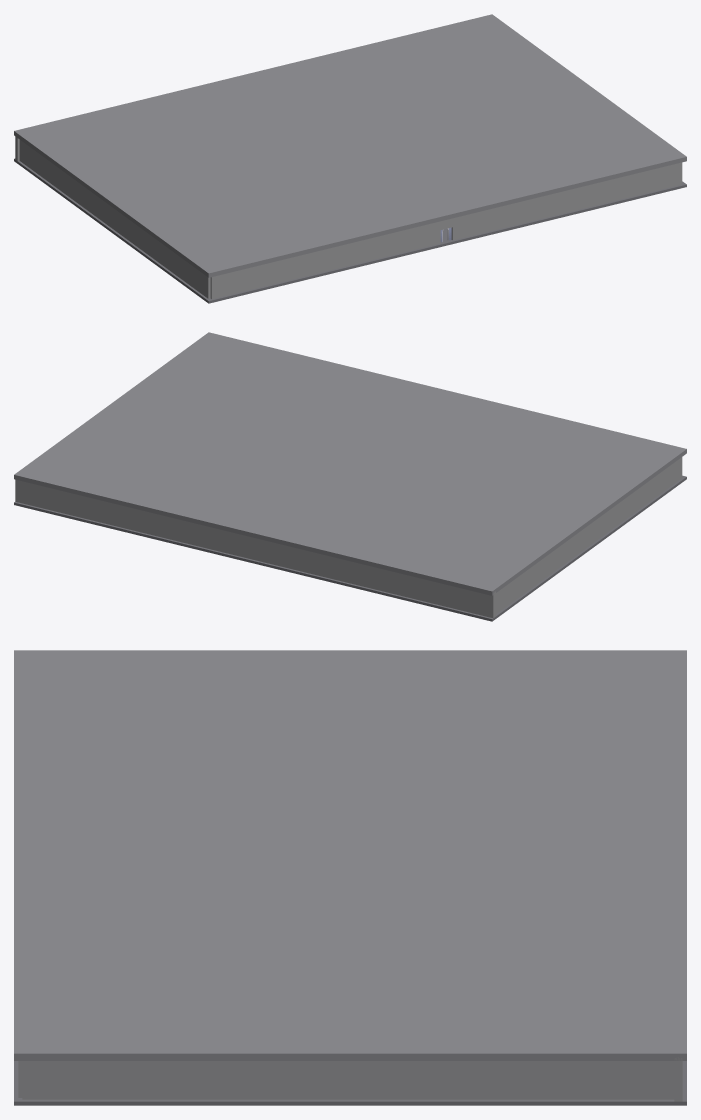
Rendered from world.glb.
3 renders of one model, top to bottom at view 1: azimuth 30°, elevation 25°; view 2: azimuth 150°, elevation 25°; view 3: azimuth 270°, elevation 25°, orthographic. The views are drawn at different scales.
Visible parts, largest first — view 1: Ceiling, Wall_S_L, Wall_S_R, Wall_W, Terrain; view 2: Ceiling, Wall_N, Wall_W, Terrain; view 3: Ceiling, Wall_E, Terrain.
Part boxes in pixels (x1,y1,x2,y2): Ceiling: (14,14,686,277); Wall_S_L: (210,221,440,299); Wall_S_R: (451,162,681,240); Wall_W: (19,140,210,298); Terrain: (14,158,686,303); Ceiling: (14,332,686,595); Wall_N: (15,479,495,618); Wall_W: (496,457,682,613); Terrain: (14,475,686,621); Ceiling: (14,650,686,1060); Wall_E: (22,1061,674,1099); Terrain: (14,1061,686,1105).
Bounding box in the file's own units: 102 × 6.15 × 71.8.
Materials: 39 (19 with a texture image).
